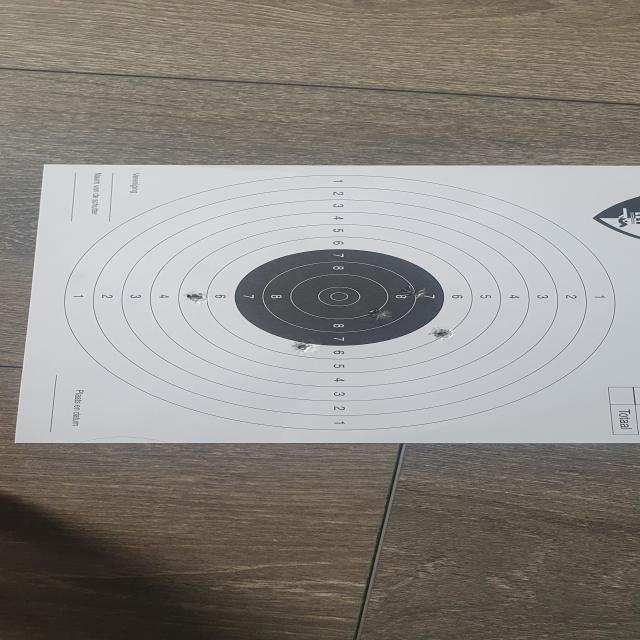6: (428, 326, 456, 341), (183, 291, 210, 304)
7: (286, 340, 322, 354)
8: (396, 286, 426, 299)
9: (367, 308, 392, 320)
Target: (63, 174, 620, 431)
black_contour: (235, 250, 444, 346)
